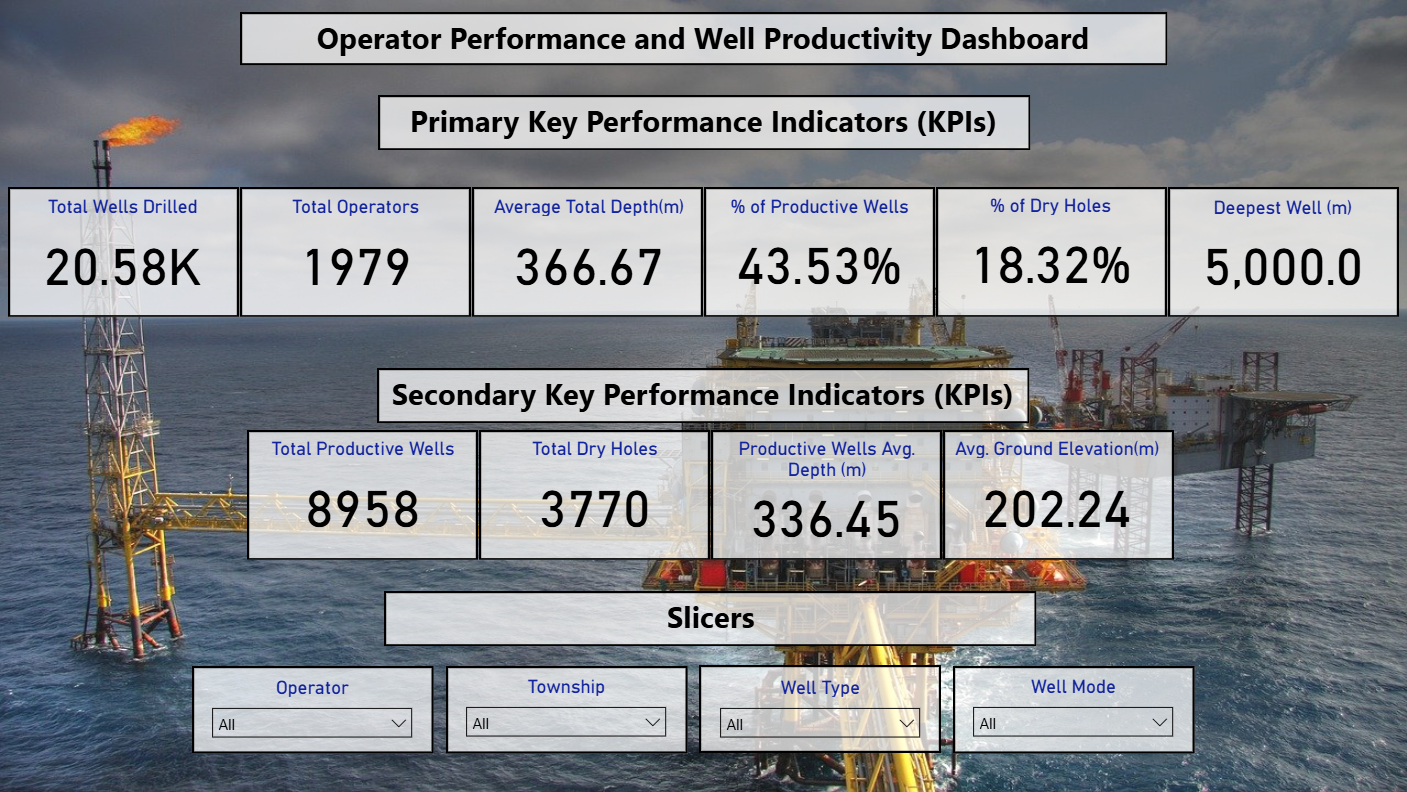

What the dashboard file says about the page in this screenshot:
{"tool":"powerbi","page":{"name":"KPIs and Slicers","canvas":[1280,720],"ordinal":0},"visuals":[{"type":"shape","box":[218.3,11.2,843.4,48.5],"z":0},{"type":"textbox","box":[262.2,11.2,754.8,51.3],"z":1000},{"type":"shape","box":[343.3,86.8,593.4,50.4],"z":2000},{"type":"textbox","box":[355.5,86.8,568.2,50.4],"z":3000},{"type":"shape","box":[7.5,169.8,210,118.5],"z":4000},{"type":"shape","box":[218.3,169.8,210,118.5],"z":5000},{"type":"shape","box":[429.2,169.8,210,118.5],"z":6000},{"type":"shape","box":[640,169.8,210,118.5],"z":7000},{"type":"shape","box":[850.8,169.8,210,118.5],"z":8000},{"type":"shape","box":[1061.7,169.8,210,118.5],"z":9000},{"type":"shape","box":[224.8,391.2,210,118.5],"z":10000},{"type":"shape","box":[435.7,391.2,210,118.5],"z":11000},{"type":"shape","box":[646.5,391.2,210,118.5],"z":12000},{"type":"shape","box":[857.4,391.2,210,118.5],"z":13000},{"type":"shape","box":[342.4,334.9,593.4,50.4],"z":14000},{"type":"textbox","box":[344.3,334.9,588.7,50.4],"z":15000},{"type":"shape","box":[348.9,537.4,593.4,50.4],"z":16000},{"type":"textbox","box":[351.7,537.4,588.7,50.4],"z":17000},{"type":"shape","box":[174.9,605.2,219.7,79.7],"z":18000},{"type":"shape","box":[405.3,605.2,219.7,79.7],"z":19000},{"type":"shape","box":[635.8,604.9,220,80],"z":20000},{"type":"shape","box":[866.4,605.2,219.7,79.7],"z":21000},{"type":"card","title":"Total Wells Drilled","fields":{"Values":["CountNonNull(Petroleum_Well.WELL_ID)"]},"box":[12.1,176.8,199.2,105.2],"z":22000},{"type":"card","title":"Total Operators","fields":{"Values":["Count(Petroleum_Well.OPERATOR)"]},"box":[223.4,176.8,199.2,105.2],"z":23000},{"type":"card","title":"Average Total Depth(m)","fields":{"Values":["Avg(Petroleum_Well.TOTAL_DEPTH(m))"]},"box":[435.6,176.8,199.2,105.2],"z":24000},{"type":"card","title":"% of Productive Wells","fields":{"Values":["Petroleum_Well.Productive Wells (%)"]},"box":[645.5,177.3,199.1,104.5],"z":25000},{"type":"card","title":"% of Dry Holes","fields":{"Values":["Petroleum_Well.Dry Holes (%)"]},"box":[855.5,176.4,199.1,104.5],"z":26000},{"type":"card","title":"Deepest Well (m)","fields":{"Values":["Petroleum_Well.Deepest Well (m)"]},"box":[1066.4,178.2,199.1,104.5],"z":27000},{"type":"card","title":"Total Productive Wells","fields":{"Values":["Petroleum_Well.Total Productive Wells"]},"box":[229.8,397.4,199.6,105.3],"z":28000},{"type":"card","title":"Total Dry Holes","fields":{"Values":["Petroleum_Well.Total Dry Holes"]},"box":[441.3,397.4,199.6,105.3],"z":29000},{"type":"card","title":"Productive Wells Avg. Depth (m)","fields":{"Values":["Petroleum_Well.Average Depth by Productive Wells (m)"]},"box":[651.9,397.4,199.6,105.3],"z":30000},{"type":"card","title":"Avg. Ground Elevation(m)","fields":{"Values":["Petroleum_Well.Average Ground Elevation (m)"]},"box":[860.7,397.4,199.6,105.3],"z":31000},{"type":"slicer","title":"Operator","fields":{"Values":["Petroleum_Well.OPERATOR"]},"box":[183.1,614.4,202.3,61.3],"z":32000},{"type":"slicer","title":"Township","fields":{"Values":["Petroleum_Well.TOWNSHIP"]},"box":[413.8,613.4,202.3,61.3],"z":33000},{"type":"slicer","title":"Well Type","fields":{"Values":["Petroleum_Well.WELL_TYPE"]},"box":[644.6,614.4,202.3,61.3],"z":34000},{"type":"slicer","title":"Well Mode","fields":{"Values":["Petroleum_Well.WELL_MODE"]},"box":[874.4,613.4,202.3,61.3],"z":35000}]}

Visuals, with their boxes in screenshot pixels (x1, y1, x2, y2), scaled from the page's 1280x720 canvas onto the 1407x792 screenshot:
shape: (240,12,1167,66)
textbox: (288,12,1118,69)
shape: (377,95,1030,151)
textbox: (391,95,1015,151)
shape: (8,187,239,317)
shape: (240,187,471,317)
shape: (472,187,703,317)
shape: (704,187,934,317)
shape: (935,187,1166,317)
shape: (1167,187,1398,317)
shape: (247,430,478,561)
shape: (479,430,710,561)
shape: (711,430,941,561)
shape: (942,430,1173,561)
shape: (376,368,1029,424)
textbox: (378,368,1026,424)
shape: (384,591,1036,647)
textbox: (387,591,1034,647)
shape: (192,666,434,753)
shape: (446,666,687,753)
shape: (699,665,941,753)
shape: (952,666,1194,753)
"Total Wells Drilled" card: (13,194,232,310)
"Total Operators" card: (246,194,465,310)
"Average Total Depth(m)" card: (479,194,698,310)
"% of Productive Wells" card: (710,195,928,310)
"% of Dry Holes" card: (940,194,1159,309)
"Deepest Well (m)" card: (1172,196,1391,311)
"Total Productive Wells" card: (253,437,472,553)
"Total Dry Holes" card: (485,437,704,553)
"Productive Wells Avg. Depth (m)" card: (717,437,936,553)
"Avg. Ground Elevation(m)" card: (946,437,1166,553)
"Operator" slicer: (201,676,424,743)
"Township" slicer: (455,675,677,742)
"Well Type" slicer: (709,676,931,743)
"Well Mode" slicer: (961,675,1184,742)
